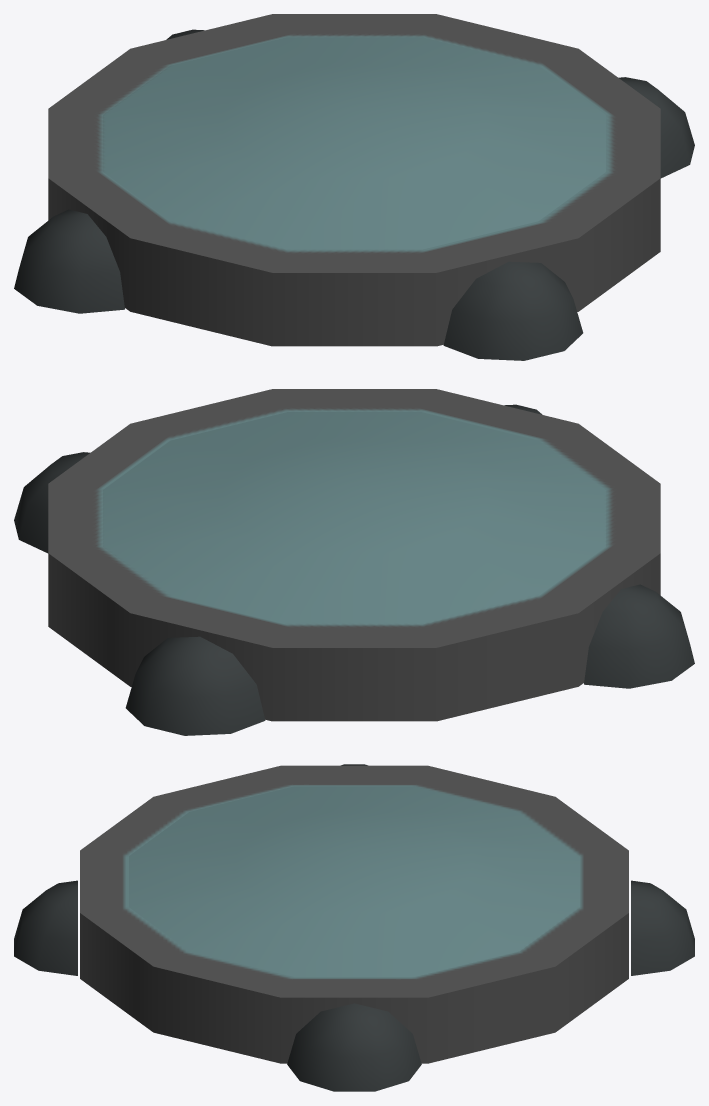
The model's file is SwitchModel.fbx.
3 views of the same model, one above another, from view 1: azimuth 30°, elevation 25°; view 2: azimuth 150°, elevation 25°; view 3: azimuth 270°, elevation 25° (orthographic). The views are drawn at different scales.
Parts seen in each view (by area): view 1: pCylinder3; view 2: pCylinder3; view 3: pCylinder3.
Boxes of the visible parts, bbox=[...] form: pCylinder3: bbox=[14, 14, 694, 360]; pCylinder3: bbox=[14, 389, 694, 735]; pCylinder3: bbox=[14, 764, 694, 1091].
Bounding box in the file's own units: 4.85 × 0.7375 × 4.85.
